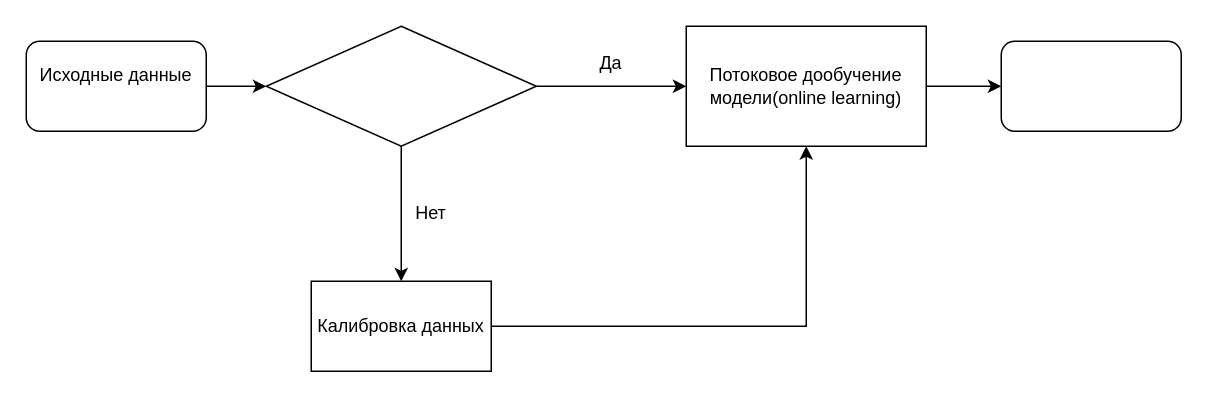
The diagram is 1208 pixels wide and 398 high, and some of its shapes have lost their labels. Each missing label, with the centre of its shape:
Получение новых парамтеров /весов: (x=1090, y=85)
Устройство V3 ?: (x=400, y=85)
